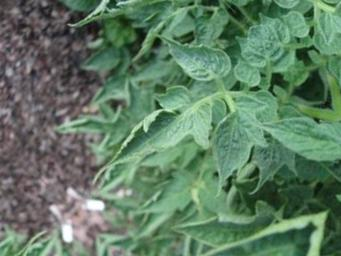Tomato leaf mosaic virus: (91, 70, 230, 210), (176, 94, 284, 202), (260, 82, 341, 197), (149, 7, 240, 98), (229, 54, 266, 91)
